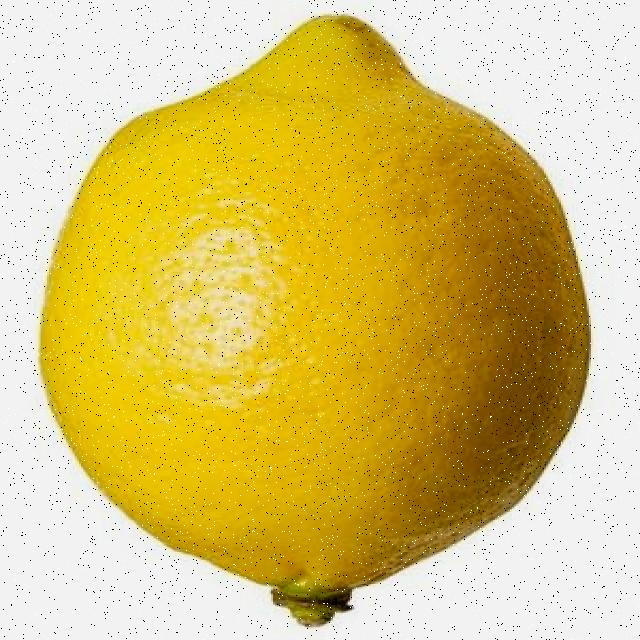Lemon: (41, 16, 591, 626)
